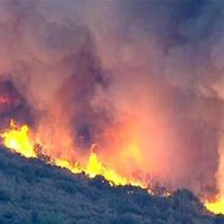fire: (1, 121, 224, 215)
smoke: (11, 4, 220, 113)
